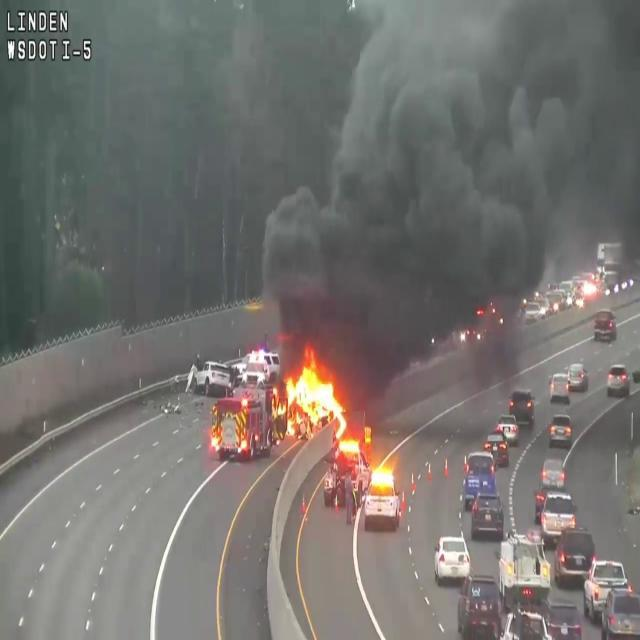Fire: (279, 351, 348, 444)
Smoke: (255, 2, 639, 338)
